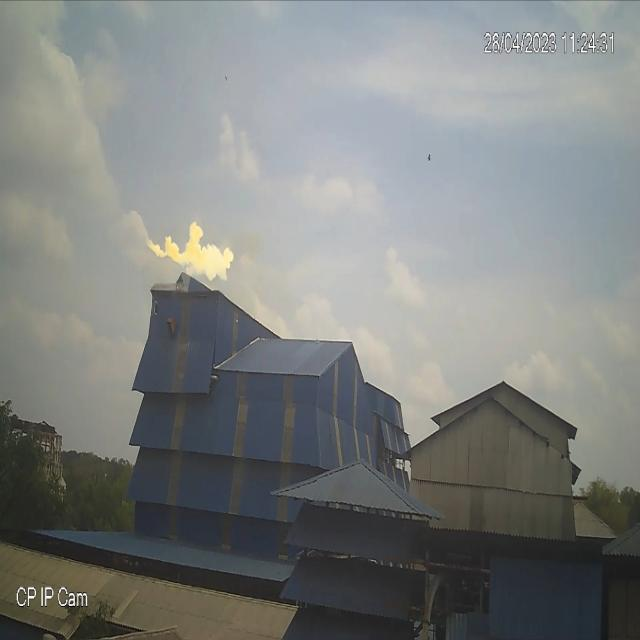yellow smoke: (145, 217, 234, 282)
